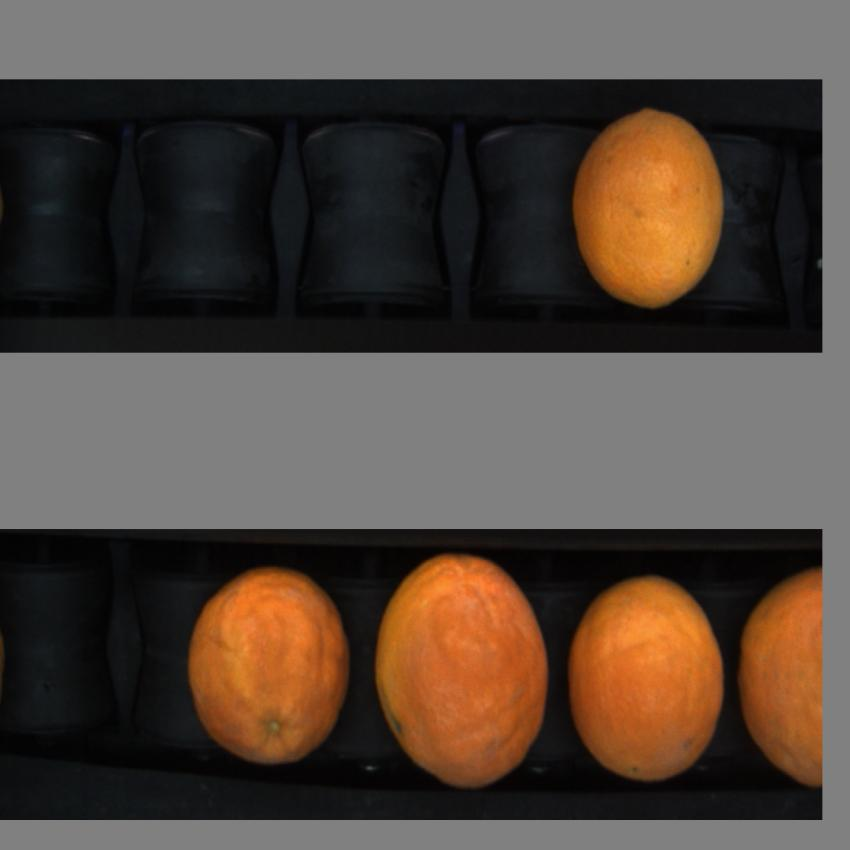Buen estado: (572, 100, 728, 318), (566, 566, 723, 782), (736, 570, 824, 798)
Mal estado: (374, 552, 551, 784), (185, 565, 357, 766)
